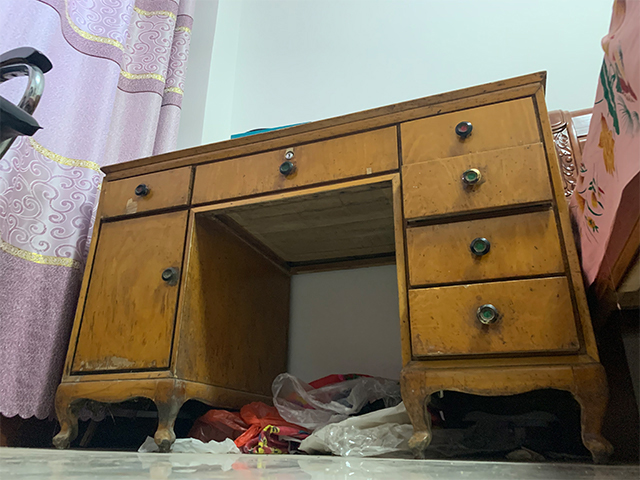cabinet: (51, 70, 617, 466)
curtain: (1, 1, 196, 424)
